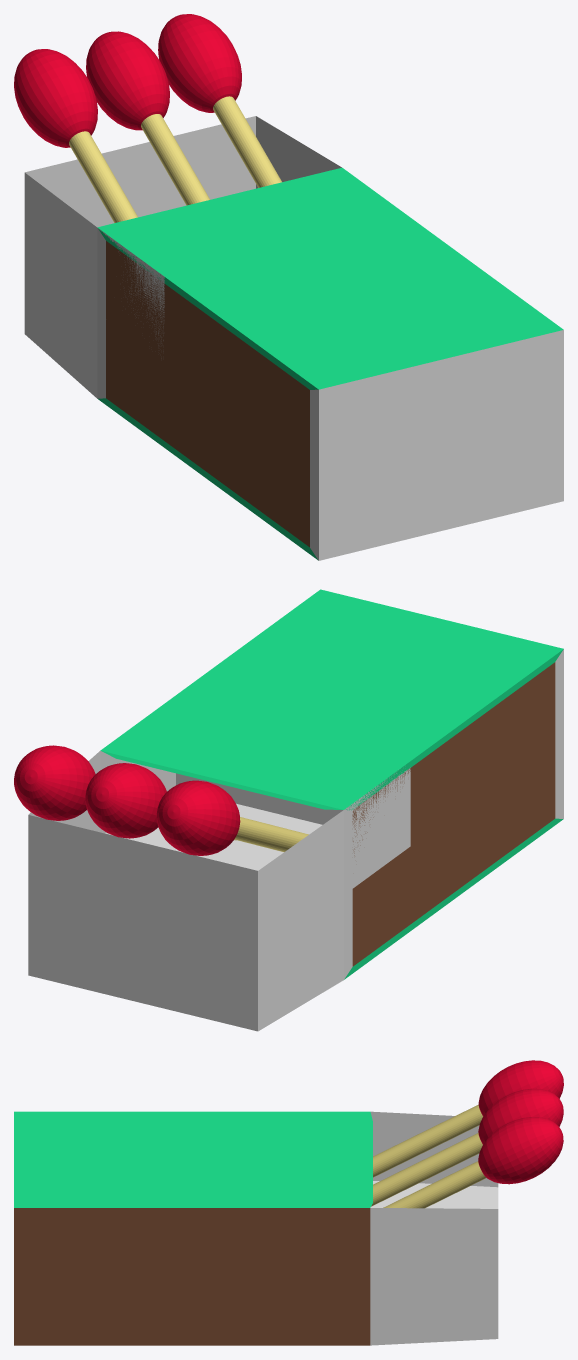
The model's file is Matchess.fbx.
The picture shows the model from 3 angles, top to bottom: view 1: azimuth 30°, elevation 25°; view 2: azimuth 150°, elevation 25°; view 3: azimuth 270°, elevation 25°; orthographic projection. The views are drawn at different scales.
Visible parts, largest first — view 1: Cube, Cylinder; view 2: Cube, Cylinder; view 3: Cube, Cylinder.
Part boxes in pixels (x1,y1,x2,y2): Cube: [24, 116, 563, 560]; Cylinder: [14, 14, 281, 222]; Cube: [28, 589, 563, 1031]; Cylinder: [14, 745, 308, 855]; Cube: [14, 1111, 498, 1345]; Cylinder: [371, 1060, 563, 1208].
Bounding box in the file's own units: 2.24 × 2.24 × 5.4.
